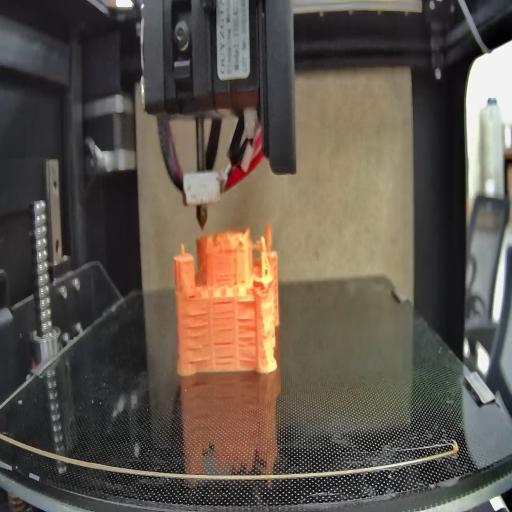cracks: (184, 313, 210, 363), (238, 316, 256, 364), (213, 297, 233, 333), (214, 340, 236, 370), (213, 270, 235, 282), (237, 297, 257, 308), (186, 288, 198, 300)
